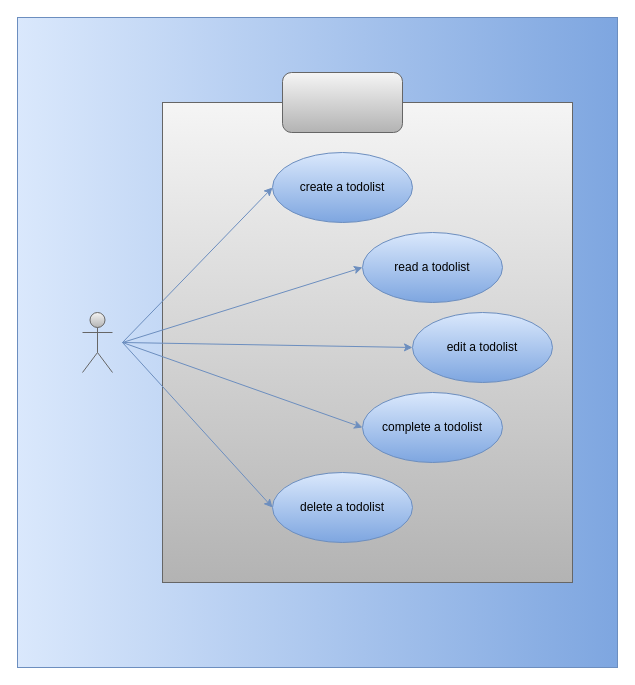
The diagram is 635 pixels wide and 685 high, and some of its shapes have lost their labels. The box of each missing label's shape, as (x1, y1, x2, y2) in pixels:
todolist system: (282, 72, 402, 132)
user: (82, 312, 112, 372)
